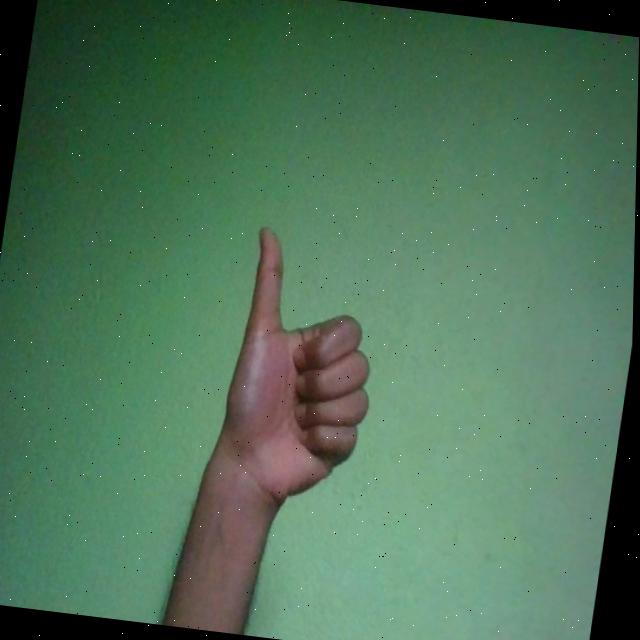Good Job: (212, 224, 394, 518)
